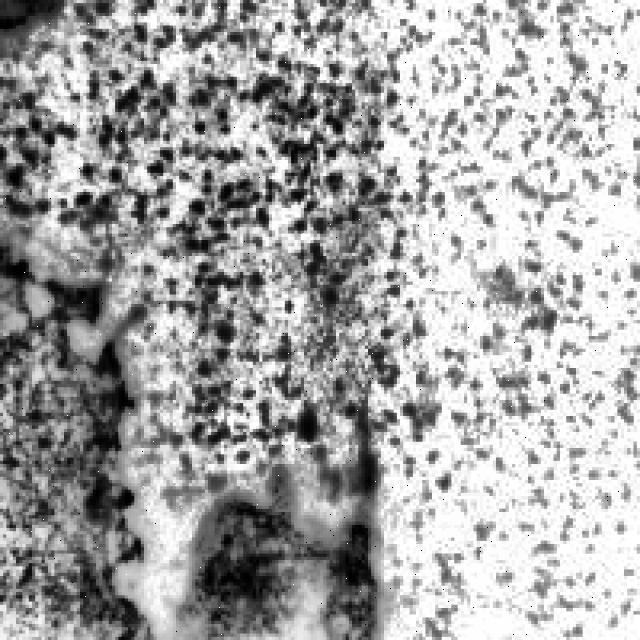Rolled_in_Scale: (122, 0, 640, 477)
Scratches: (3, 236, 166, 634), (172, 438, 404, 637)
